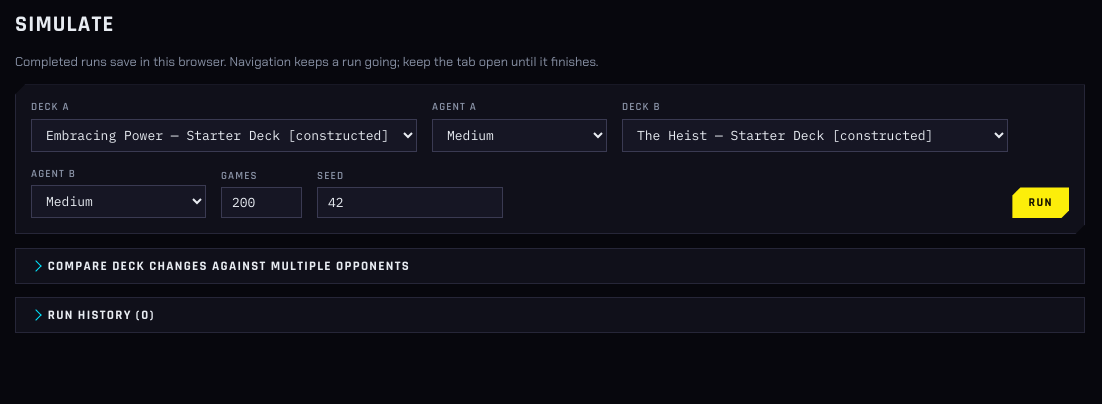
Test: SimulateView — durable history › handles Worker construction failure without leaving Run disabled
This screenshot has width=1102, height=404.
Click the button with test id "sim-run" at x=1041, y=203, box top-left (1012, 188), bottom-right (1069, 218)
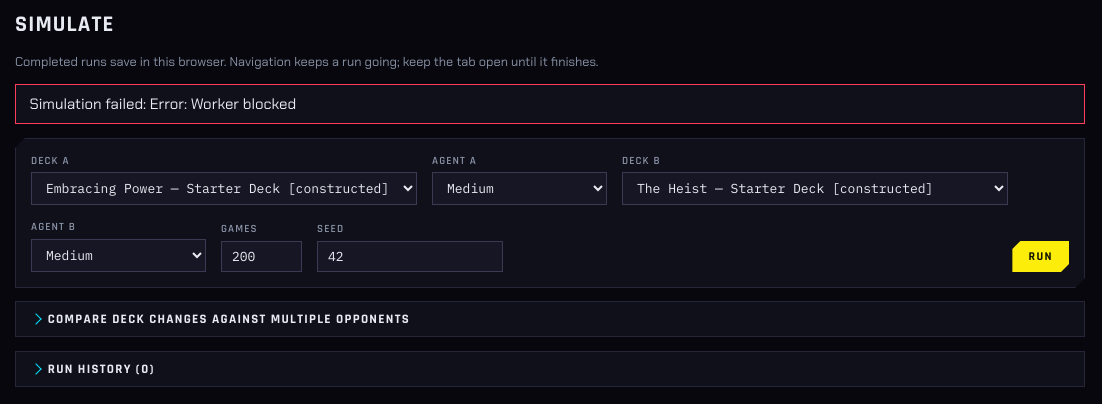
Expected: the button with test id "sim-run" is enabled, top-left (1012, 241), bottom-right (1069, 272)
Now the message with test id "sim-error" shows "Worker blocked", box top-left (150, 94), bottom-right (296, 114)
